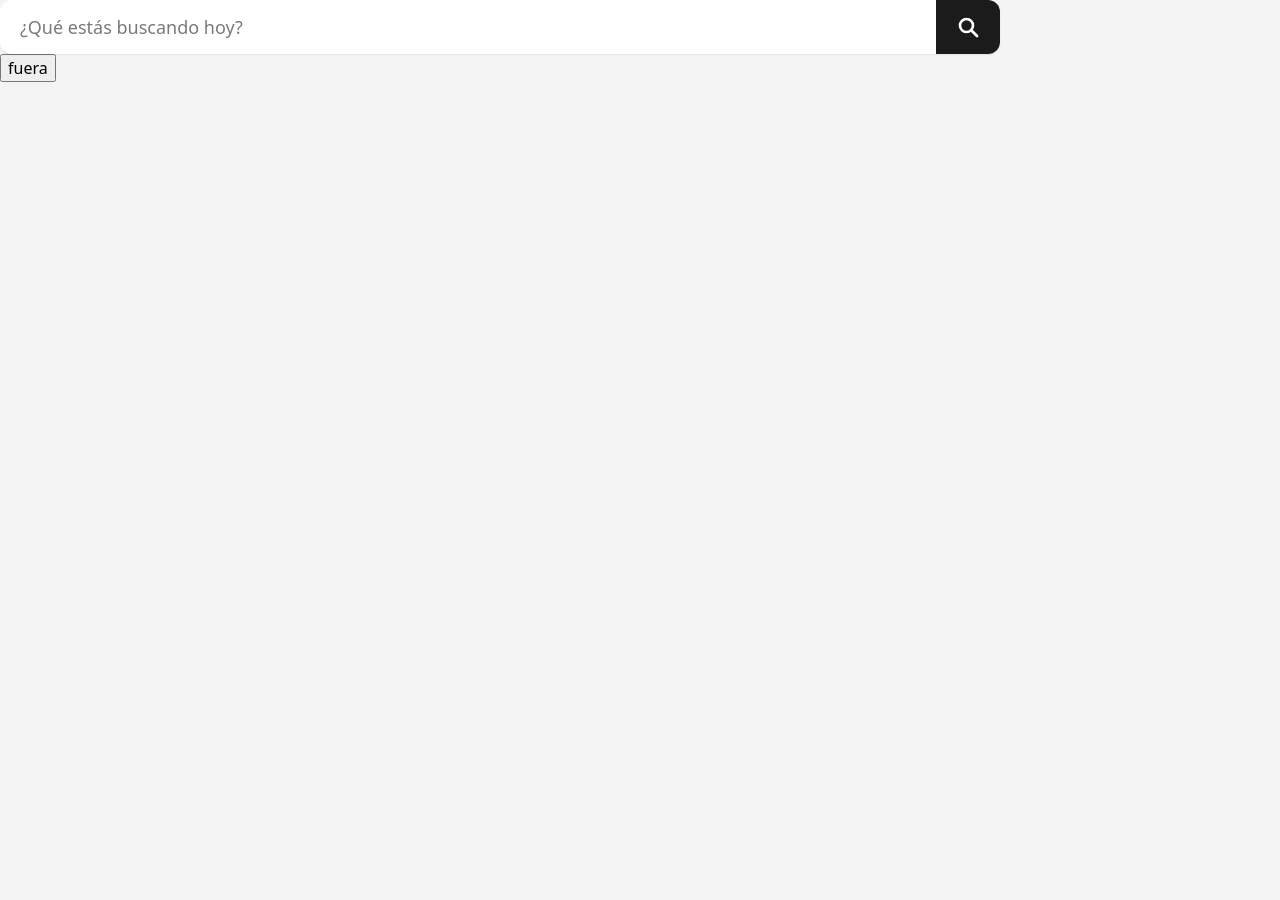
Scenario: SearchBox › al escribir muestra tarjetas de producto, búsquedas relacionadas y la publicidad
In the search field named "Buscar productos": (468,27) x1=0 y1=0 x2=936 y2=54, type "shirt"
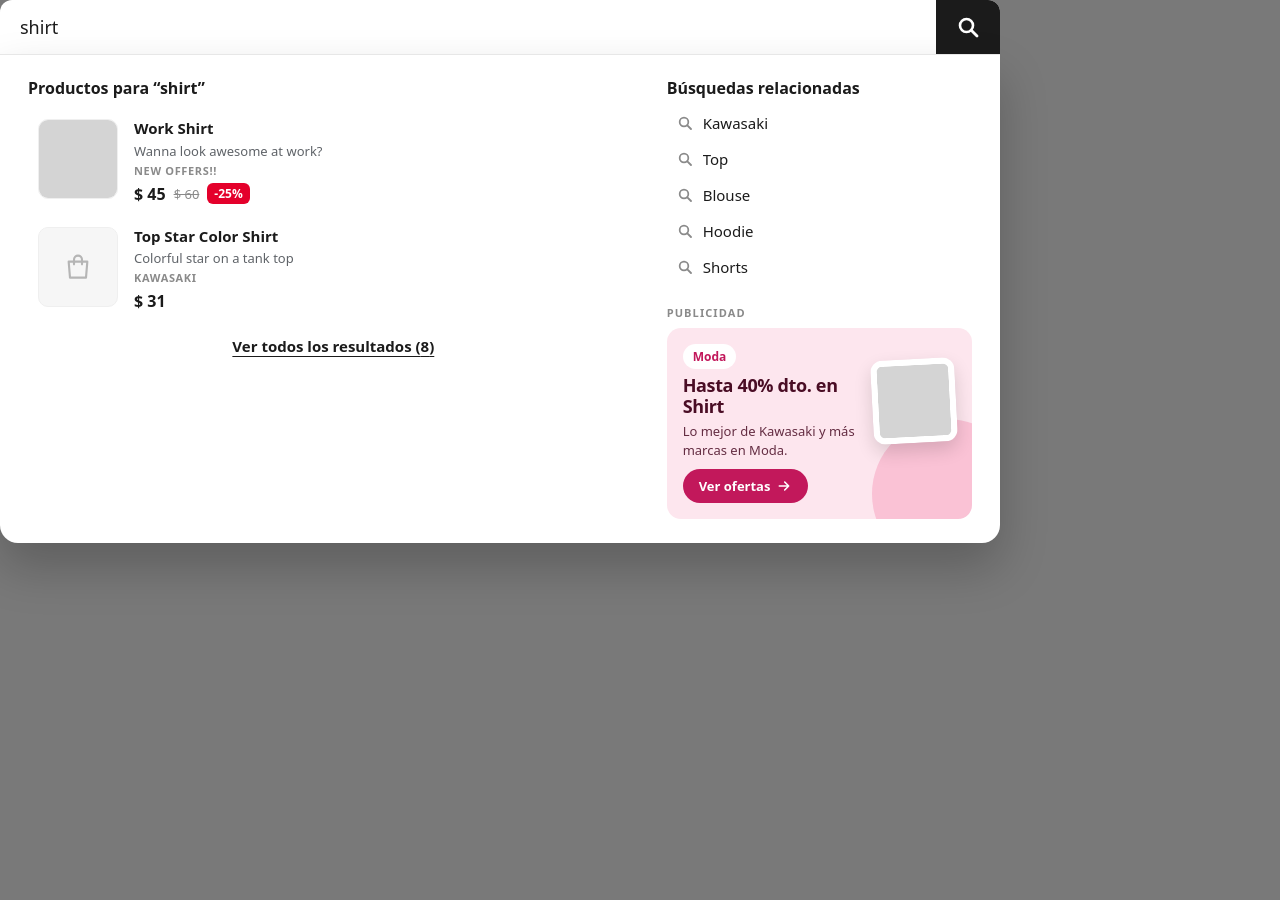
expect the heading "Productos para “shirt”" is shown: met, box x1=28 y1=77 x2=205 y2=99
expect the text "Work Shirt" is shown: met, box x1=134 y1=118 x2=214 y2=138
expect the text "Wanna look awesome at work?" is shown: met, box x1=134 y1=142 x2=322 y2=160
